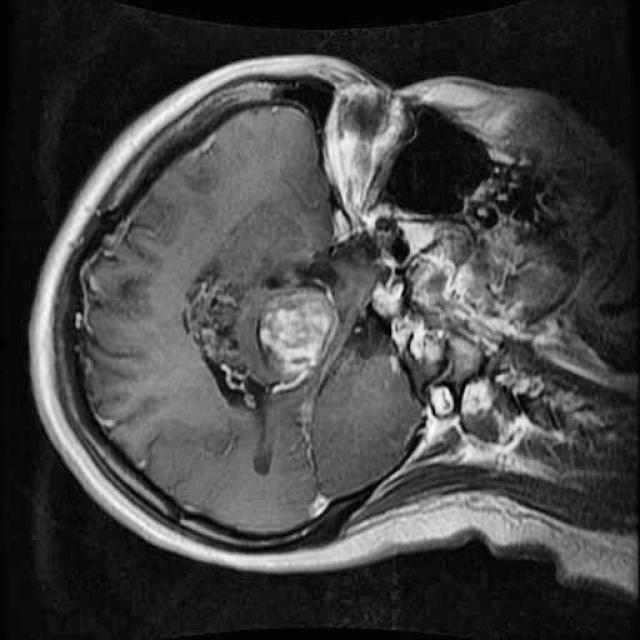Tumor: (171, 248, 360, 422)
